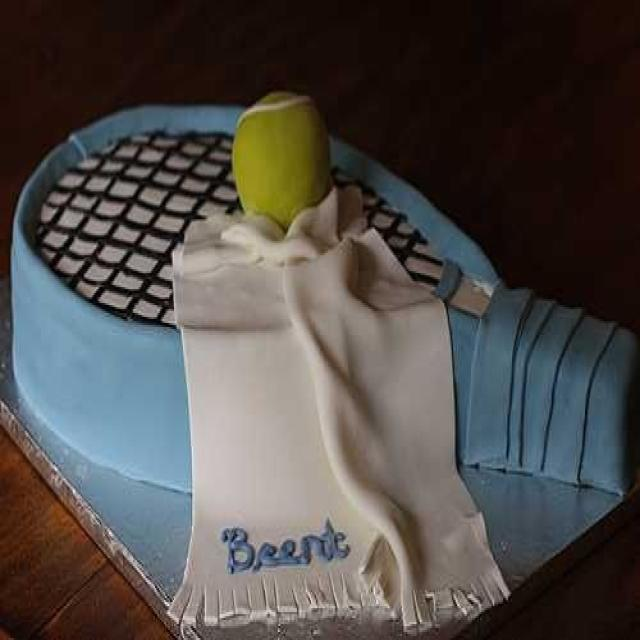Tennis_Ball: (229, 89, 328, 230)
